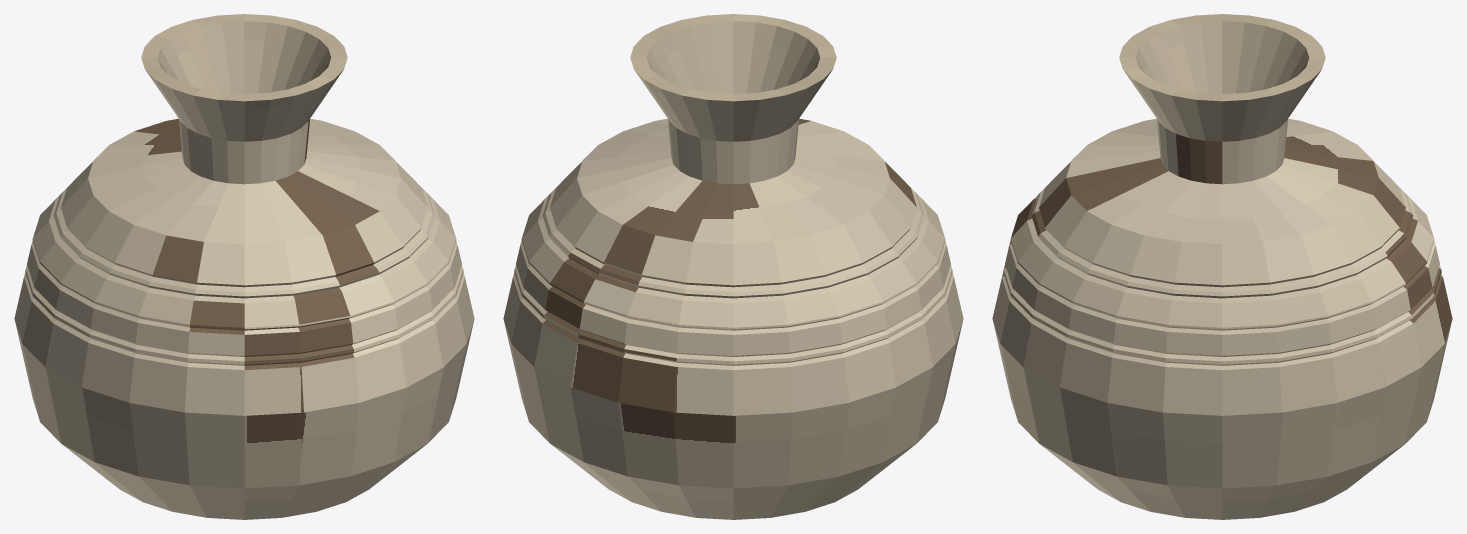
File: antique-oribe-jar.glb
The picture shows the model from 3 angles, left to right: view 1: azimuth 30°, elevation 25°; view 2: azimuth 150°, elevation 25°; view 3: azimuth 270°, elevation 25°; orthographic projection.
Parts seen in each view (by area): view 1: antique-oribe-jar/ceramic-outer-shoulder-2, antique-oribe-jar/ceramic-outer-shoulder-20, antique-oribe-jar/ceramic-outer-shoulder-3, antique-oribe-jar/ceramic-outer-shoulder-19, antique-oribe-jar/ceramic-outer-shoulder-13, antique-oribe-jar/ceramic-inner-neck-24, antique-oribe-jar/ceramic-outer-shoulder-9, antique-oribe-jar/ceramic-outer-lower-1, antique-oribe-jar/ceramic-outer-lip-22, antique-oribe-jar/ceramic-outer-neck-21, antique-oribe-jar/ceramic-rim-23, antique-oribe-jar/ceramic-outer-shoulder-14 (+12 smaller); view 2: antique-oribe-jar/ceramic-outer-shoulder-2, antique-oribe-jar/ceramic-outer-shoulder-20, antique-oribe-jar/ceramic-outer-shoulder-3, antique-oribe-jar/ceramic-outer-shoulder-19, antique-oribe-jar/ceramic-outer-shoulder-13, antique-oribe-jar/ceramic-inner-neck-24, antique-oribe-jar/ceramic-outer-shoulder-9, antique-oribe-jar/ceramic-outer-lower-1, antique-oribe-jar/ceramic-outer-lip-22, antique-oribe-jar/ceramic-outer-neck-21, antique-oribe-jar/ceramic-rim-23, antique-oribe-jar/ceramic-outer-shoulder-14 (+12 smaller); view 3: antique-oribe-jar/ceramic-outer-shoulder-2, antique-oribe-jar/ceramic-outer-shoulder-20, antique-oribe-jar/ceramic-outer-shoulder-3, antique-oribe-jar/ceramic-outer-shoulder-19, antique-oribe-jar/ceramic-outer-shoulder-13, antique-oribe-jar/ceramic-inner-neck-24, antique-oribe-jar/ceramic-outer-shoulder-9, antique-oribe-jar/ceramic-outer-lower-1, antique-oribe-jar/ceramic-outer-lip-22, antique-oribe-jar/ceramic-outer-neck-21, antique-oribe-jar/ceramic-rim-23, antique-oribe-jar/ceramic-outer-shoulder-14 (+12 smaller).
Part boxes in pixels (x1,y1,x2,y2): antique-oribe-jar/ceramic-outer-shoulder-2: (15, 321, 473, 488); antique-oribe-jar/ceramic-outer-shoulder-20: (88, 118, 400, 244); antique-oribe-jar/ceramic-outer-shoulder-3: (14, 278, 474, 415); antique-oribe-jar/ceramic-outer-shoulder-19: (61, 157, 427, 285); antique-oribe-jar/ceramic-outer-shoulder-13: (33, 198, 455, 327); antique-oribe-jar/ceramic-inner-neck-24: (157, 21, 331, 94); antique-oribe-jar/ceramic-outer-shoulder-9: (27, 245, 461, 355); antique-oribe-jar/ceramic-outer-lower-1: (62, 444, 426, 519); antique-oribe-jar/ceramic-outer-lip-22: (145, 69, 343, 141); antique-oribe-jar/ceramic-outer-neck-21: (179, 119, 309, 184); antique-oribe-jar/ceramic-rim-23: (141, 14, 347, 101); antique-oribe-jar/ceramic-outer-shoulder-14: (49, 181, 439, 303); antique-oribe-jar/ceramic-outer-shoulder-2: (504, 321, 962, 488); antique-oribe-jar/ceramic-outer-shoulder-20: (577, 118, 889, 244); antique-oribe-jar/ceramic-outer-shoulder-3: (503, 278, 963, 415); antique-oribe-jar/ceramic-outer-shoulder-19: (550, 157, 916, 285); antique-oribe-jar/ceramic-outer-shoulder-13: (522, 198, 944, 327); antique-oribe-jar/ceramic-inner-neck-24: (646, 21, 820, 94); antique-oribe-jar/ceramic-outer-shoulder-9: (516, 245, 950, 355); antique-oribe-jar/ceramic-outer-lower-1: (551, 444, 915, 519); antique-oribe-jar/ceramic-outer-lip-22: (634, 69, 832, 141); antique-oribe-jar/ceramic-outer-neck-21: (668, 119, 798, 184); antique-oribe-jar/ceramic-rim-23: (630, 14, 836, 101); antique-oribe-jar/ceramic-outer-shoulder-14: (538, 181, 928, 303); antique-oribe-jar/ceramic-outer-shoulder-2: (993, 321, 1451, 488); antique-oribe-jar/ceramic-outer-shoulder-20: (1066, 118, 1378, 244); antique-oribe-jar/ceramic-outer-shoulder-3: (992, 278, 1452, 415); antique-oribe-jar/ceramic-outer-shoulder-19: (1039, 157, 1405, 285); antique-oribe-jar/ceramic-outer-shoulder-13: (1011, 198, 1433, 327); antique-oribe-jar/ceramic-inner-neck-24: (1135, 21, 1309, 94); antique-oribe-jar/ceramic-outer-shoulder-9: (1005, 245, 1439, 355); antique-oribe-jar/ceramic-outer-lower-1: (1040, 444, 1404, 519); antique-oribe-jar/ceramic-outer-lip-22: (1123, 69, 1321, 141); antique-oribe-jar/ceramic-outer-neck-21: (1157, 119, 1287, 184); antique-oribe-jar/ceramic-rim-23: (1119, 14, 1325, 101); antique-oribe-jar/ceramic-outer-shoulder-14: (1027, 181, 1417, 303).
Bounding box in the file's own units: 0.5 × 0.4815 × 0.5.
3 materials, 3 textured.
